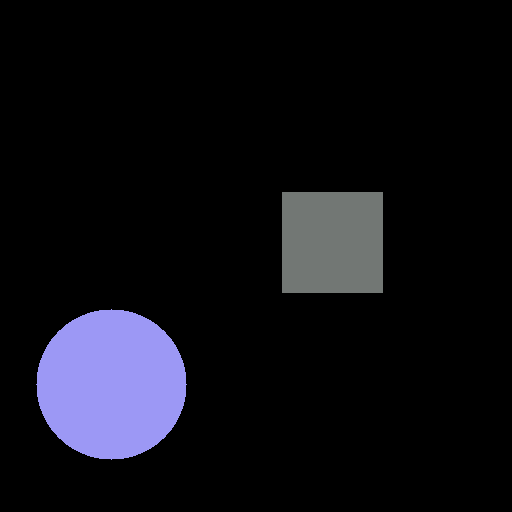circle: (36, 309, 186, 459)
square: (282, 192, 382, 292)
